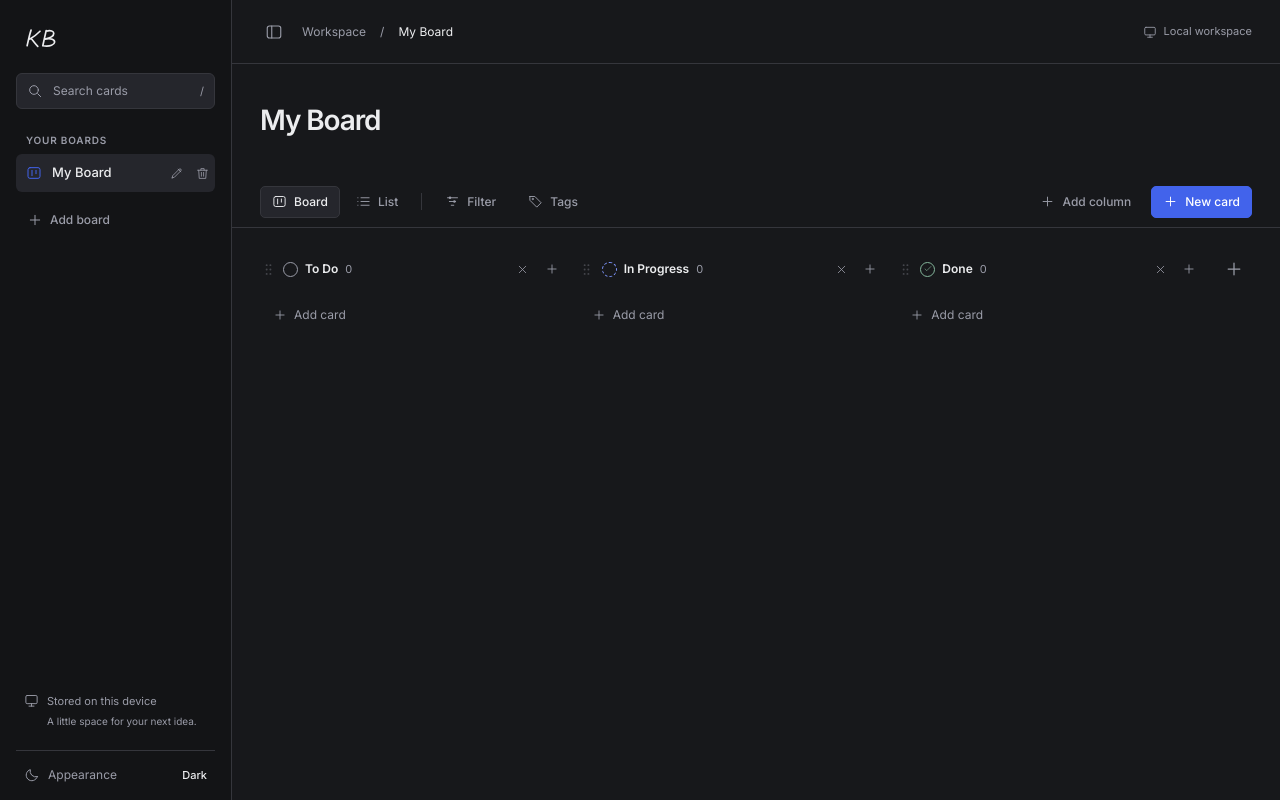
Scenario: local boards › collapses and reopens the desktop sidebar
Expected: the heading "My Board" is shown, [260,102,380,138]
Click the button named "Boards".
click(274, 32)  # box [260,18,288,46]
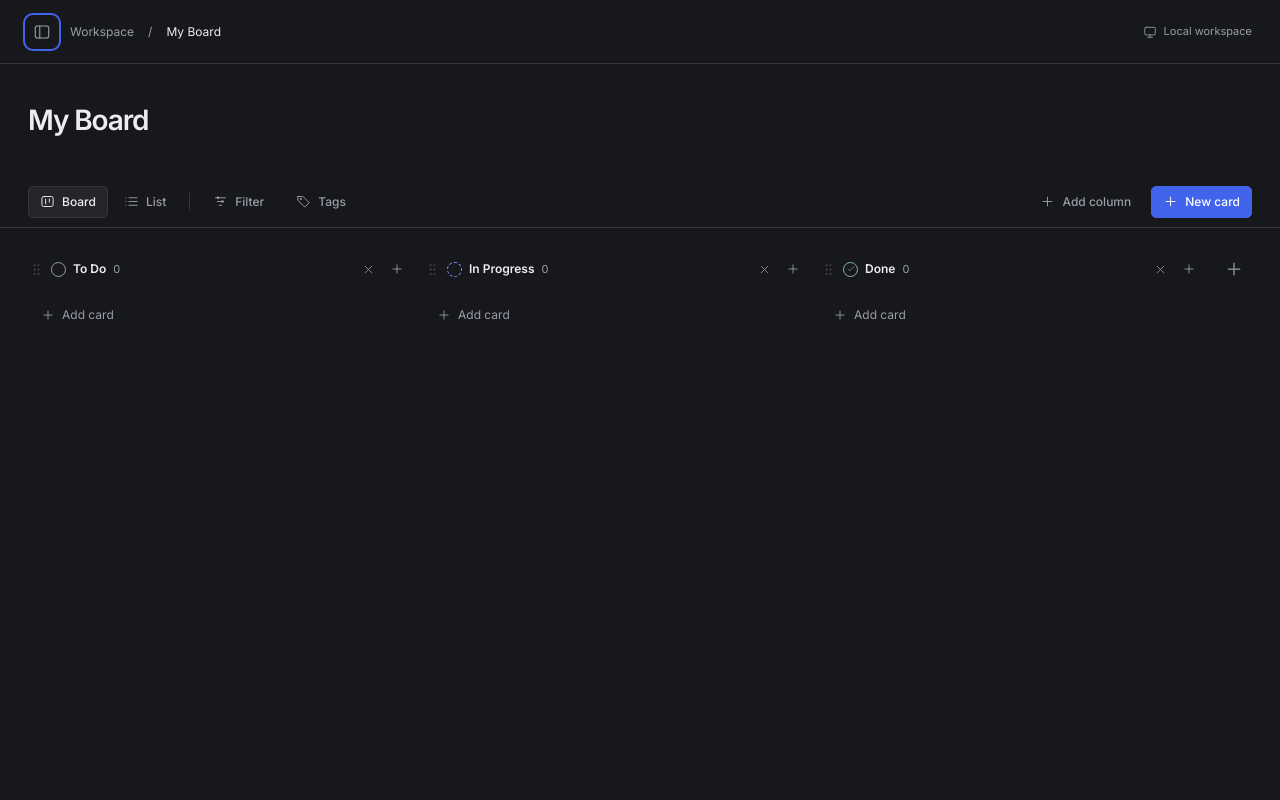
Click the button named "Boards".
click(42, 32)  # box [28,18,56,46]
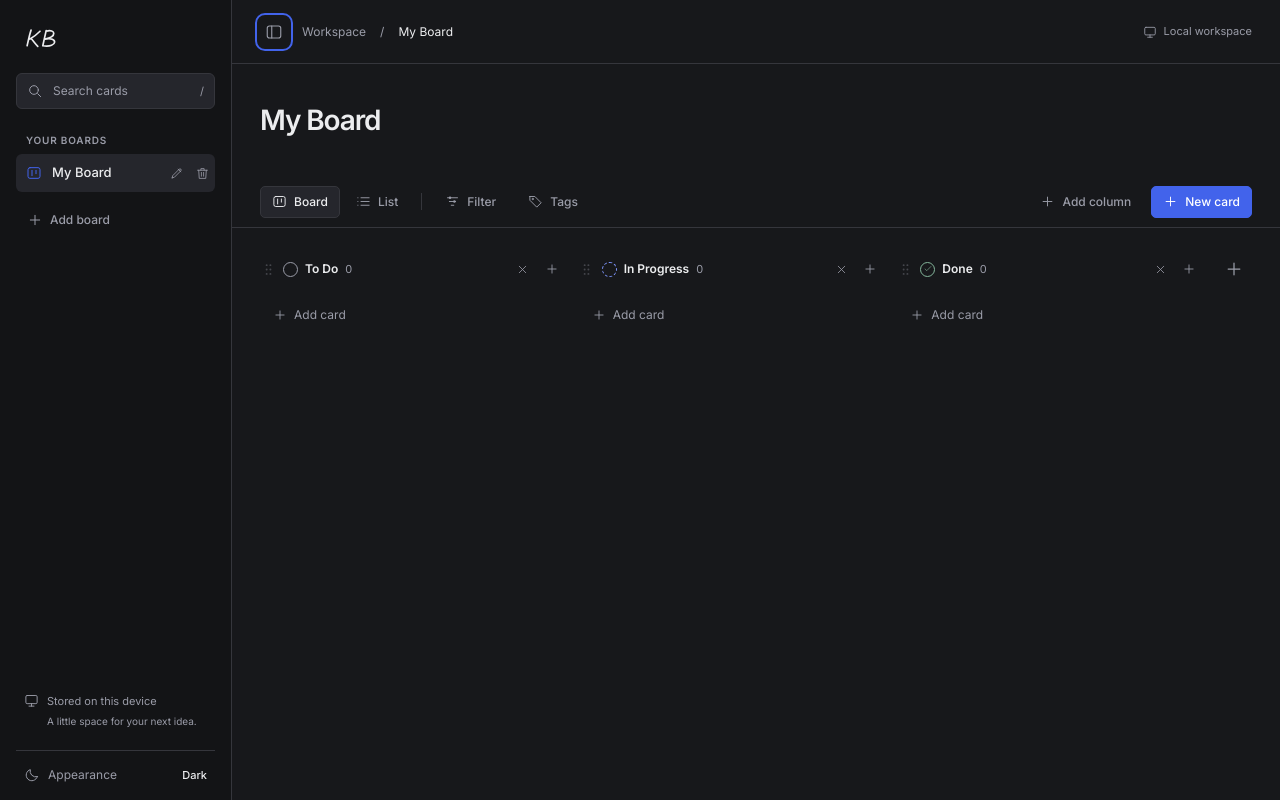
Expected: the navigation bar named "Board selection" is shown, [16,154,215,192]
